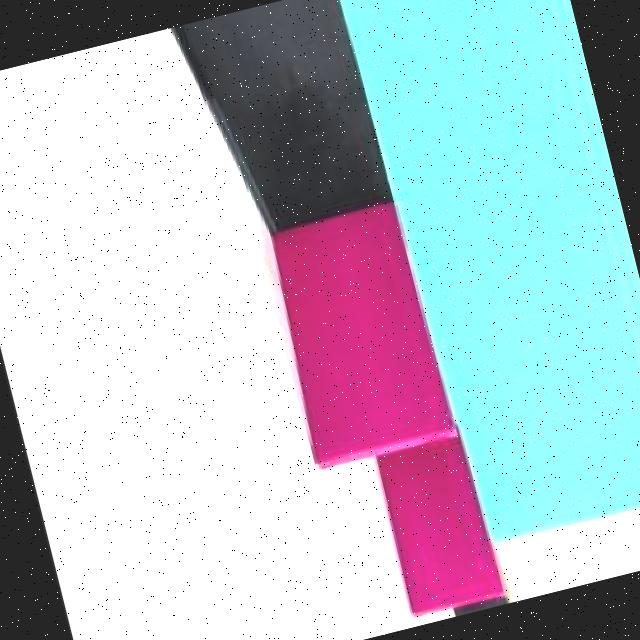xparking: (260, 202, 450, 466), (376, 436, 508, 616)
